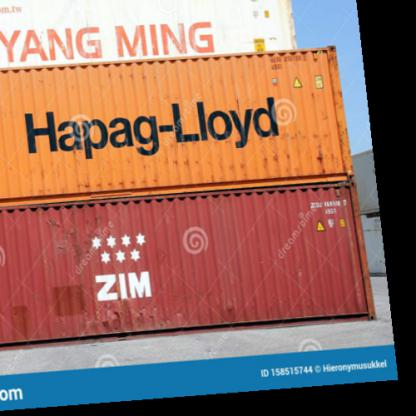Damage: (334, 103, 356, 188)
